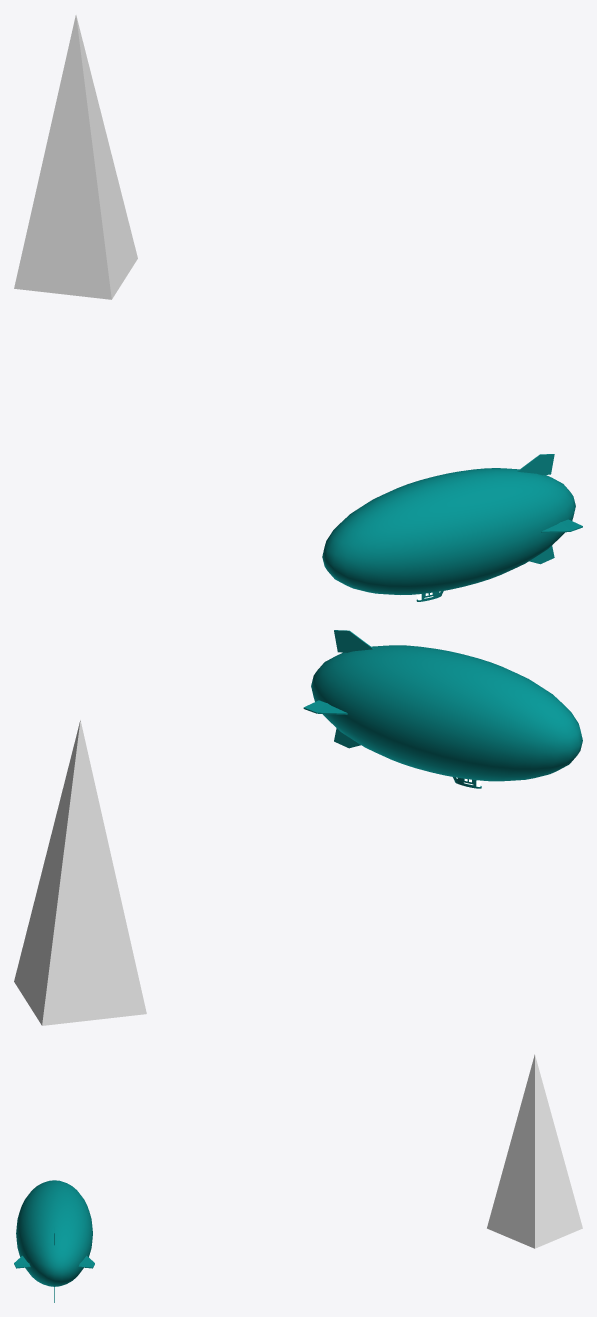
Rendered from index.gltf.
3 views of the same model, one above another, from view 1: azimuth 30°, elevation 25°; view 2: azimuth 150°, elevation 25°; view 3: azimuth 270°, elevation 25° (orthographic). The views are drawn at different scales.
Visible parts, largest first — view 1: BalloonShip, 円錐; view 2: BalloonShip, 円錐; view 3: 円錐, BalloonShip.
Boxes of the visible parts, x1=… form: BalloonShip: x1=322, y1=454, x2=582, y2=601; 円錐: x1=14, y1=15, x2=137, y2=299; BalloonShip: x1=303, y1=630, x2=582, y2=788; 円錐: x1=14, y1=720, x2=146, y2=1025; 円錐: x1=487, y1=1054, x2=582, y2=1248; BalloonShip: x1=14, y1=1180, x2=94, y2=1302.
Bounding box in the file's own units: 9.97 × 12.4 × 29.57.
